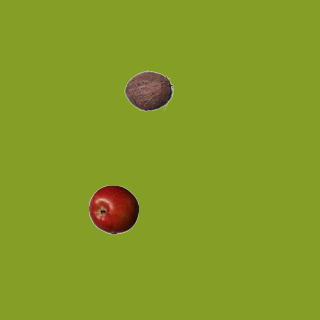Apple Braeburn: (88, 184, 138, 234)
Cocos: (123, 65, 173, 115)
